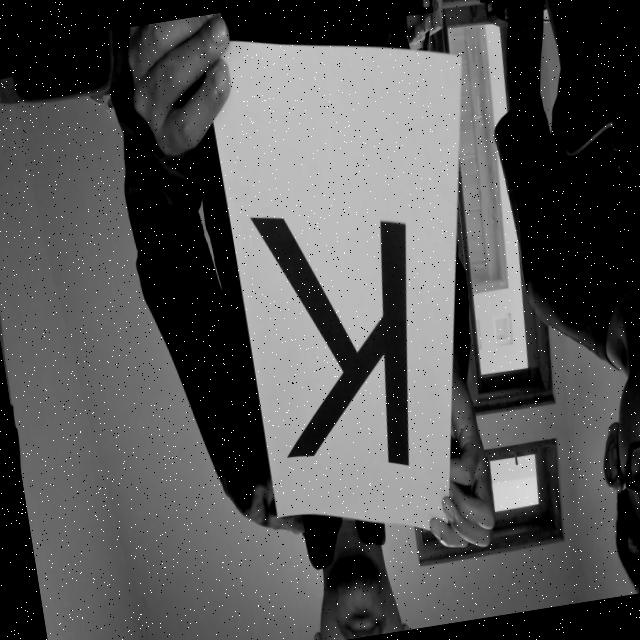k: (244, 176, 440, 496)
